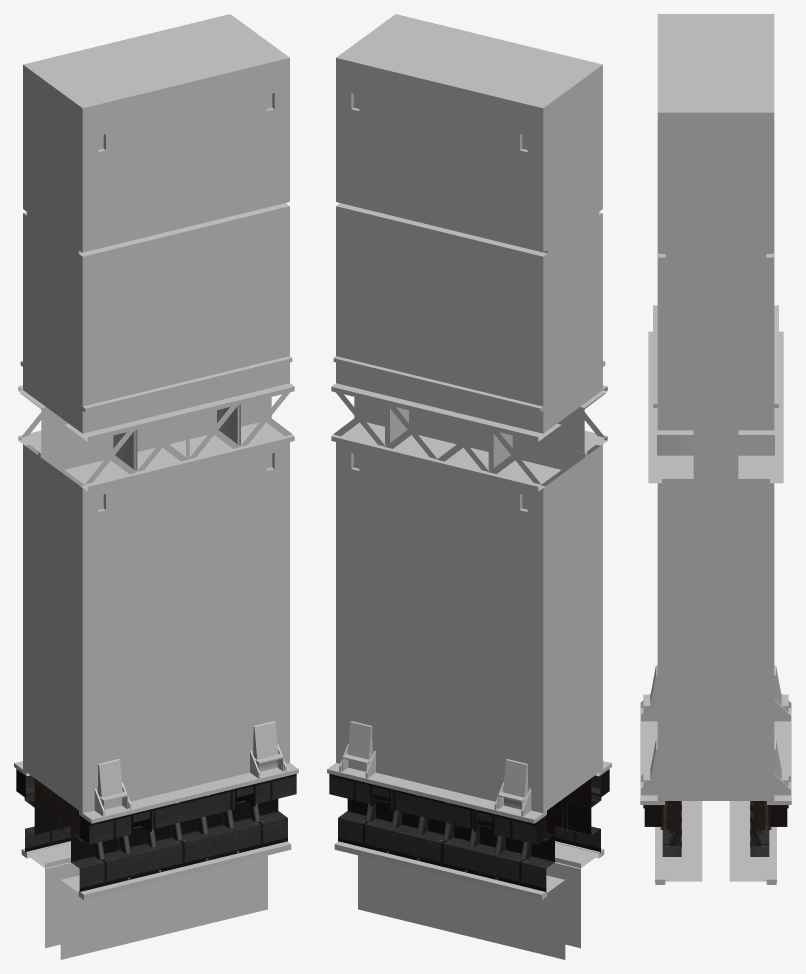
The model's file is Wall_Large_01_phys.fbx.
The picture shows the model from 3 angles, left to right: view 1: azimuth 30°, elevation 25°; view 2: azimuth 150°, elevation 25°; view 3: azimuth 270°, elevation 25°; orthographic projection. The views are drawn at different scales.
Parts seen in each view (by area): view 1: Wall_Large_01_phys; view 2: Wall_Large_01_phys; view 3: Wall_Large_01_phys.
Boxes of the visible parts, x1,y1,x2,y2 form: Wall_Large_01_phys: [14, 14, 298, 959]; Wall_Large_01_phys: [327, 14, 611, 959]; Wall_Large_01_phys: [640, 14, 791, 884].
Size of the model in its own units: 804 by 3200 by 518.
